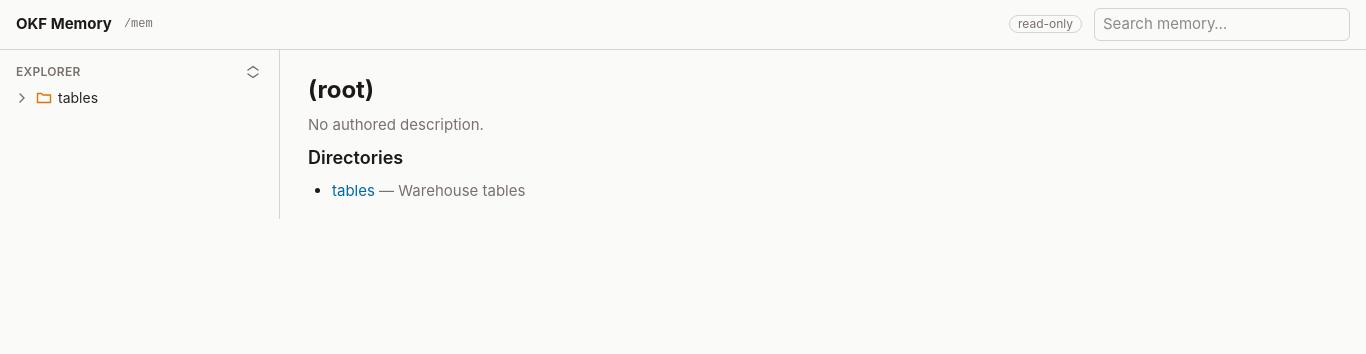
Scenario: manage › hides write controls when read-only
This screenshot has width=1366, height=354.
Click the button named "tables": (22, 98) [12,88,32,108]
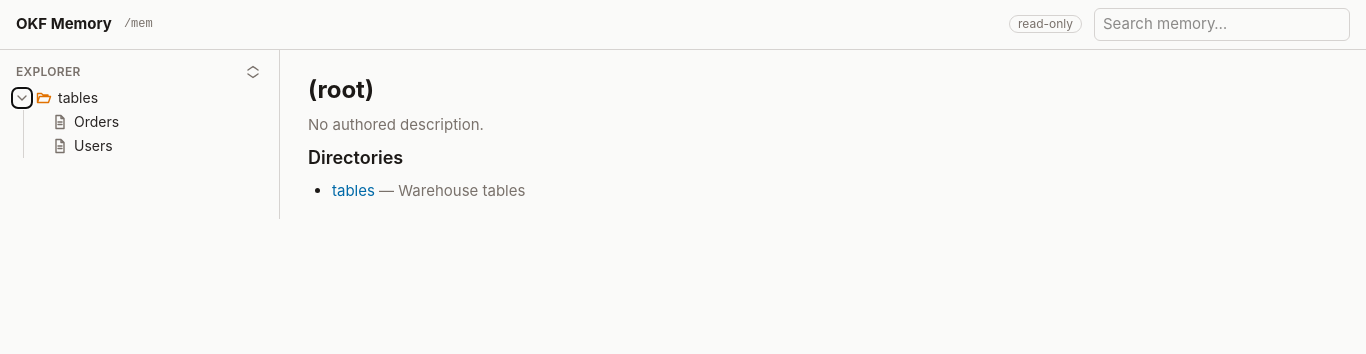
Click the link "Orders": (86, 121) [52,112,119,130]
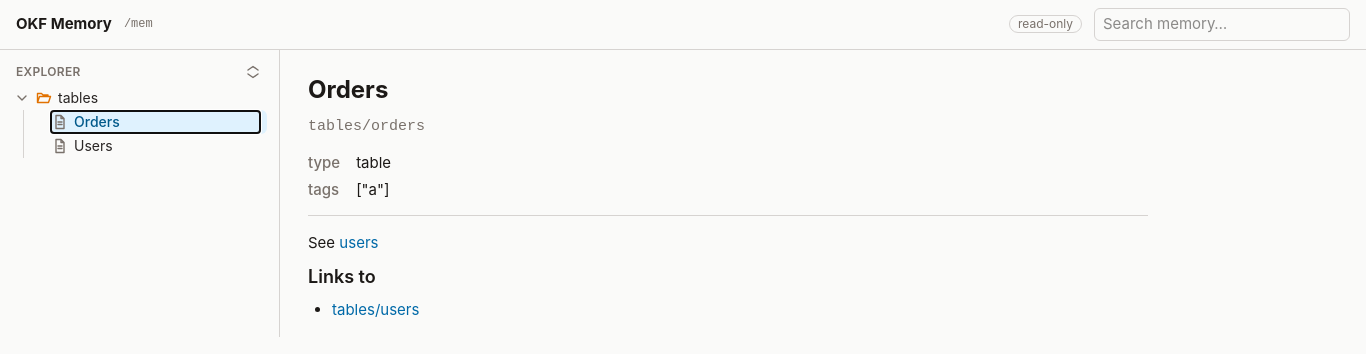
Expected: the heading "Orders" is shown, [308,74,388,104]
